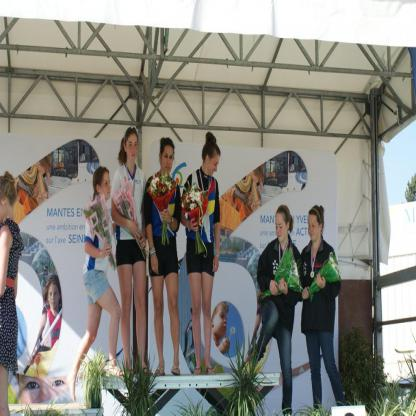face: (216, 306, 228, 336), (309, 213, 321, 242), (163, 145, 174, 176), (276, 214, 287, 242), (127, 137, 139, 160), (102, 172, 112, 199), (50, 286, 60, 310), (211, 152, 221, 176), (1, 200, 5, 223)
